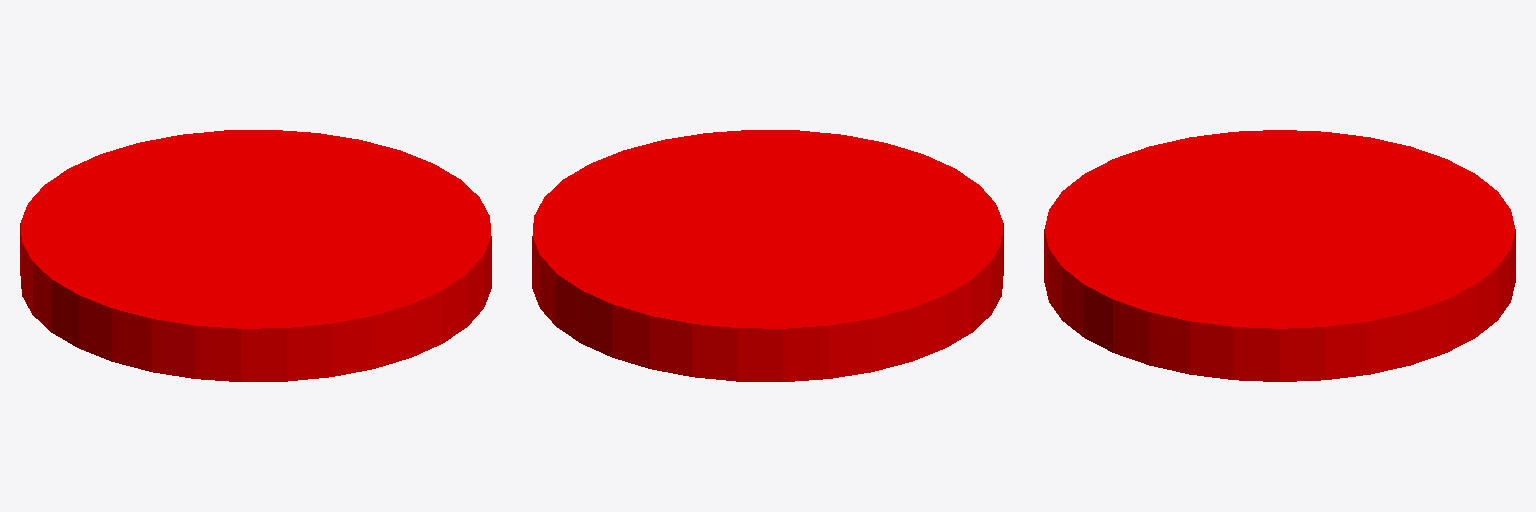
URDF robot description (disco):
<?xml version="1.0"?>
<robot name="disco">

  <material name="red">
    <color rgba="1 0 0 1"/>
  </material>  

  <link name="base_link">
    <visual>
      <geometry>
        <cylinder length="0.1" radius="0.40"/>
      </geometry>
      <origin rpy="0 0 0" xyz="0 0 -0.4"/> 
      <material name="red"/>
    </visual>
    <collision>
      <surface>
        <bounce restitution_coefficient="1.0" threshold="0.01"/>
      </surface>
      <geometry>
        <cylinder length="1.0" radius="0.40"/>
      </geometry>
    </collision>
    <inertial>  
        <mass value="2.5"/>
        <inertia ixx="0.1" ixy="0" ixz="0" iyy="0.1" iyz="0" izz="0.2"/>
    </inertial>
    <contact>
      <lateral_friction value="0"/>
      <restitution value="1.05" /> 
    </contact>
  </link>


  <link name="world">
    <inertial>
      <mass value="0"/>
      <origin rpy="0 0 0" xyz="0 0 0"/>
      <inertia ixx="0" ixy="0" ixz="0" iyy="0" iyz="0" izz="0"/>
    </inertial>
  </link>

  <link name="y_prismatic">
    <inertial>
      <mass value="0.01"/>
      <inertia ixx="0.2125" ixy="-0.005" ixz="0.0225" iyy="0.205" iyz="0.045" izz="0.0125"/>
      <origin rpy="0 0 0" xyz="0 0 0"/>
    </inertial>
  </link>

  <link name="x_prismatic">
    <inertial>
      <mass value="0.0"/>
      <inertia ixx="0" ixy="0.0" ixz="0.0" iyy="0.0" iyz="0.0" izz="0.0"/>
      <origin rpy="0 0 0" xyz="0 0 0"/>
    </inertial>
  </link>

  <joint name="x_to_y" type="prismatic">
    <parent link="y_prismatic"/>
    <child link="x_prismatic"/>
    <axis xyz="0 1 0"/>
    <limit effort="0.0" lower="1" upper="-1" velocity="1000.0"/>
    <origin rpy="0 0 0" xyz="0 0 0"/>
  </joint>

  <joint name="y_to_world" type="prismatic">
    <parent link="world"/>
    <child link="y_prismatic"/>
    <axis xyz="1 0 0"/>
    <limit effort="0.0" lower="1" upper="-1" velocity="1000.0"/>
    <origin rpy="0 0 0" xyz="0 0 0"/>
  </joint>
  
  <joint name="base_to_x" type="continuous">
    <parent link="x_prismatic"/>
    <child link="base_link"/>
    <axis xyz="0 0 1"/>
    <origin rpy="0 0 0" xyz="0 0 0"/>
  </joint>
</robot>

--- Facts derived from the render (not from the file) ---
3 views of the same robot in one strip: view 1: azimuth 30°, elevation 25°; view 2: azimuth 150°, elevation 25°; view 3: azimuth 270°, elevation 25° (orthographic).
Model disco with 4 links and 3 joints (1 continuous, 2 prismatic), rooted at world, posed every joint at zero.
Links seen in each view (by area): view 1: base_link; view 2: base_link; view 3: base_link.
Link boxes in pixels (x1=…): base_link: x1=20, y1=130, x2=491, y2=381; base_link: x1=532, y1=130, x2=1003, y2=381; base_link: x1=1044, y1=130, x2=1515, y2=381.
Size in the robot's own frame: 0.8 by 0.8 by 0.1 metres.
Geometry: primitives only (box / cylinder / sphere), no mesh files.